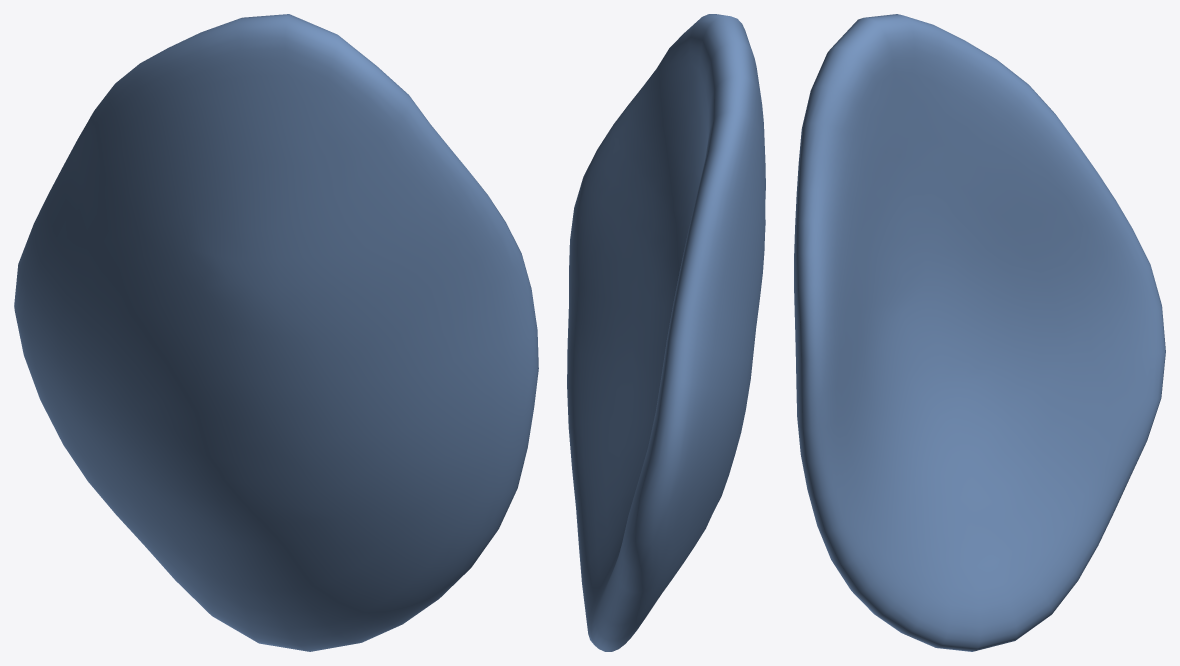
File: TL3_Enamel_Diamond.001.glb
3 views of the same model, side by side, from view 1: azimuth 30°, elevation 25°; view 2: azimuth 150°, elevation 25°; view 3: azimuth 270°, elevation 25° (orthographic). The views are drawn at different scales.
Parts seen in each view (by area): view 1: TL3_Enamel_Diamond.001; view 2: TL3_Enamel_Diamond.001; view 3: TL3_Enamel_Diamond.001.
Part boxes in pixels (x1,y1,x2,y2): TL3_Enamel_Diamond.001: [14, 14, 538, 651]; TL3_Enamel_Diamond.001: [567, 14, 765, 651]; TL3_Enamel_Diamond.001: [794, 14, 1165, 651].
Size of the model in its own units: 0.5177 by 1.04 by 0.5891.
